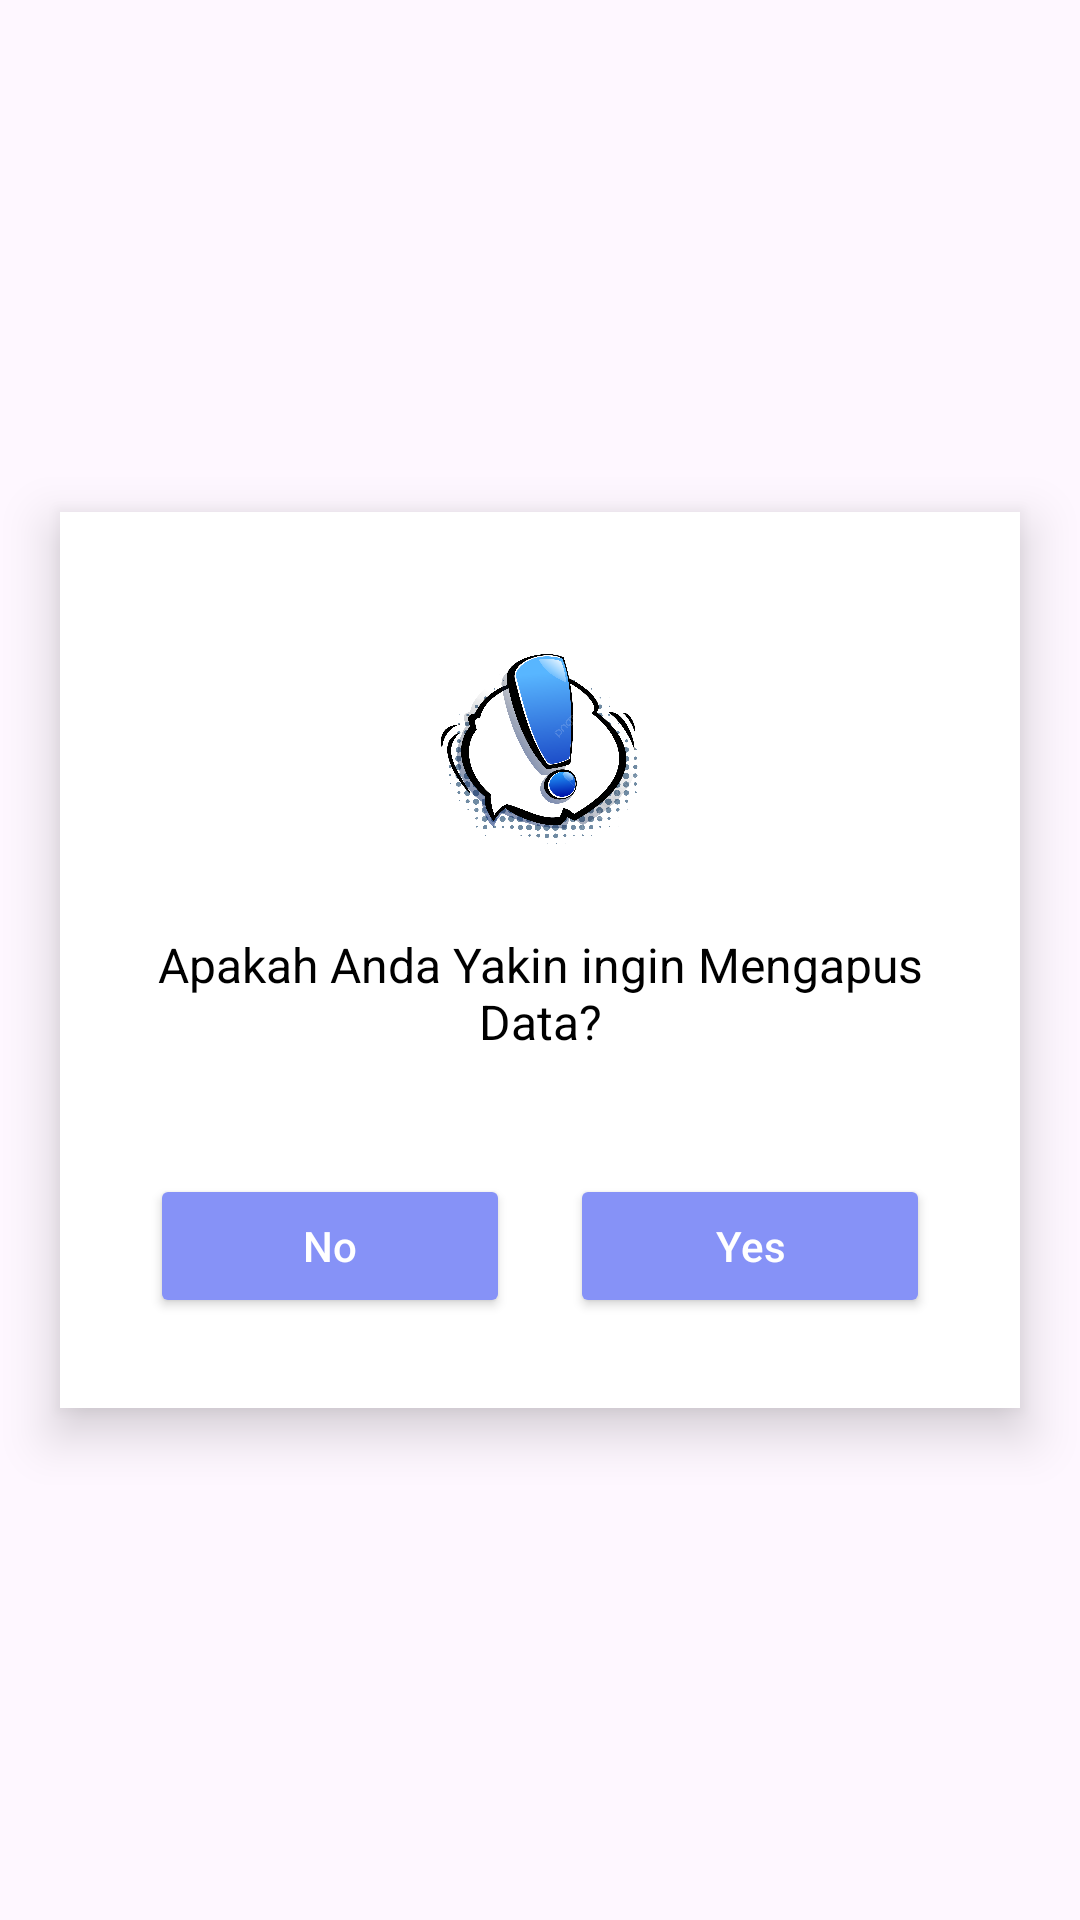

Named icons in this screenshot (1080px×1920px) and their bounding boxes, box=[x1, y1, x2, y2]:
seru: box=[441, 654, 638, 844]
